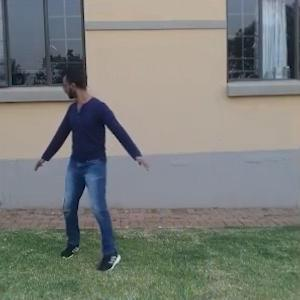land: (28, 55, 147, 261)
